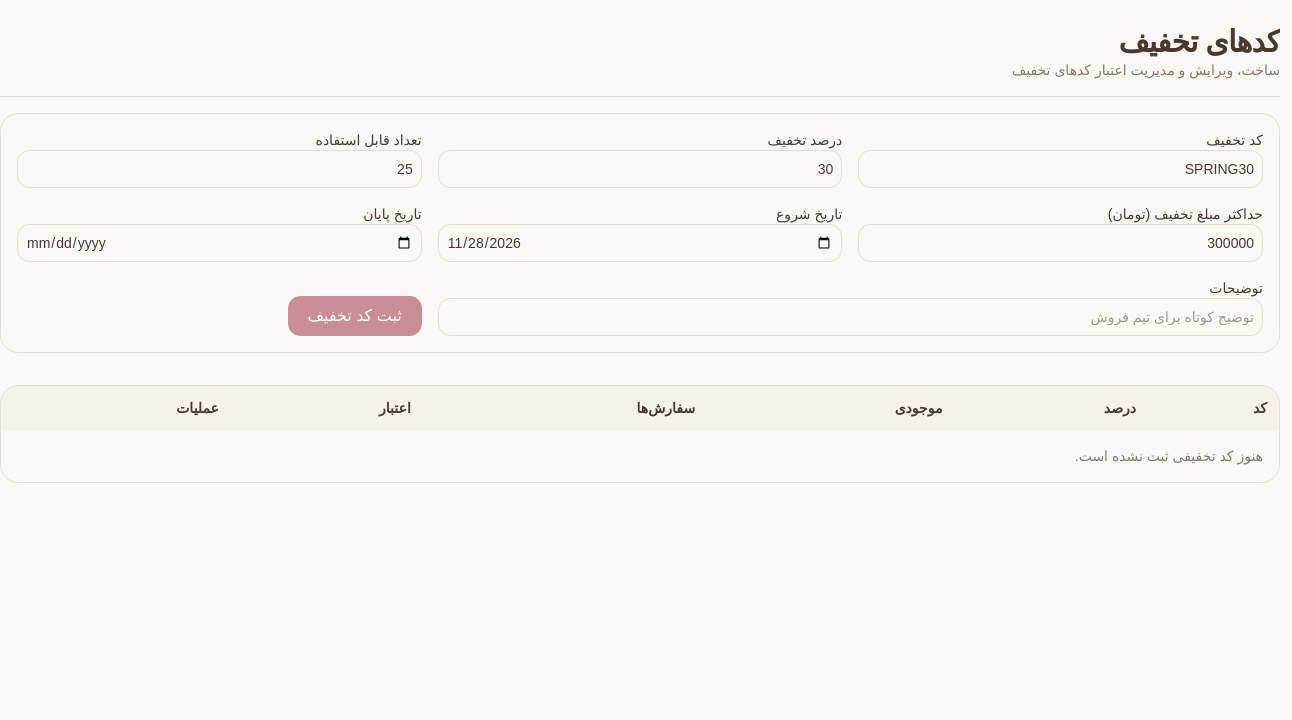
Test: admin discount codes page › creates a discount code and handles duplicate, invalid, generic, and non-Error create failures
Earlier steps of the test are not shown.
Later steps or results of the test are not shown.
Step 1. Type "2026-11-01" into the date field labelled "تاریخ شروع" → (640, 243), box [438,224,842,262]
Step 2. Type "2026-12-01" into the date field labelled "تاریخ پایان" → (219, 243), box [17,224,422,262]
Step 3. Type "بهاره" into the field with placeholder "توضیح کوتاه برای تیم فروش" → (850, 317), box [438,298,1263,336]
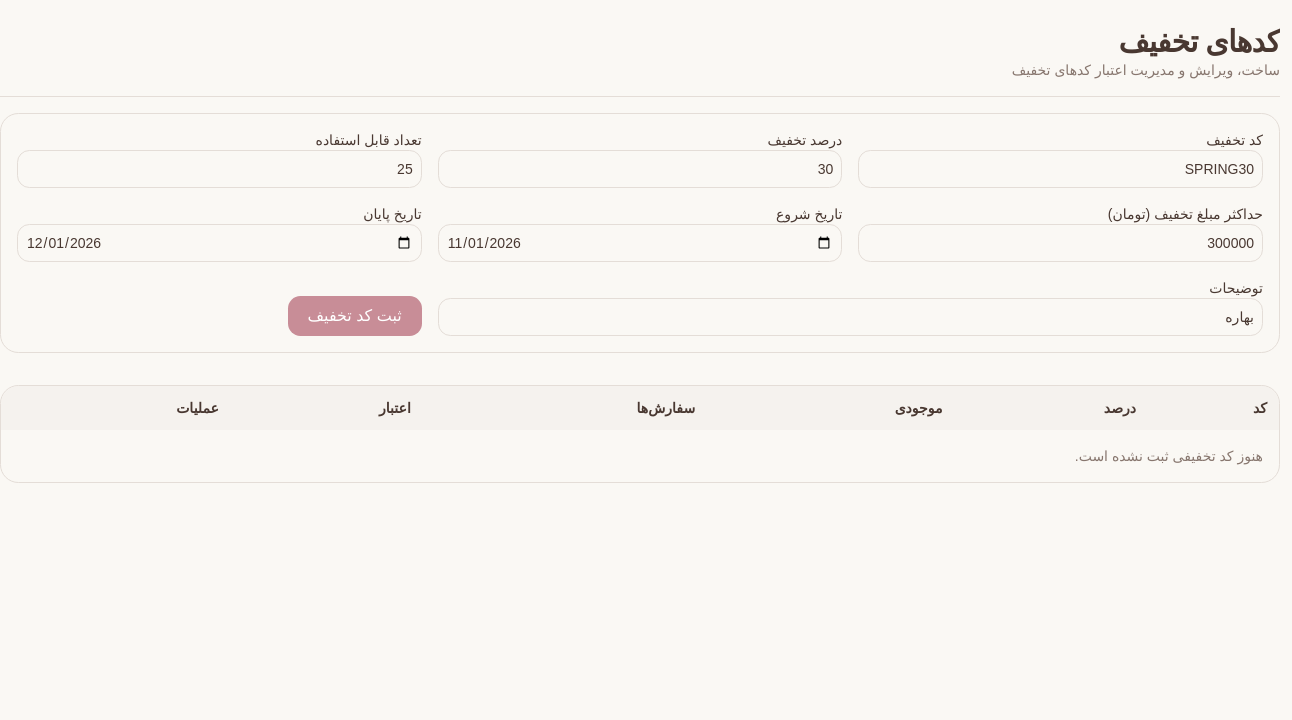
Step 4. Submit the form named "ثبت کد تخفیف", box [0,113,1280,353]
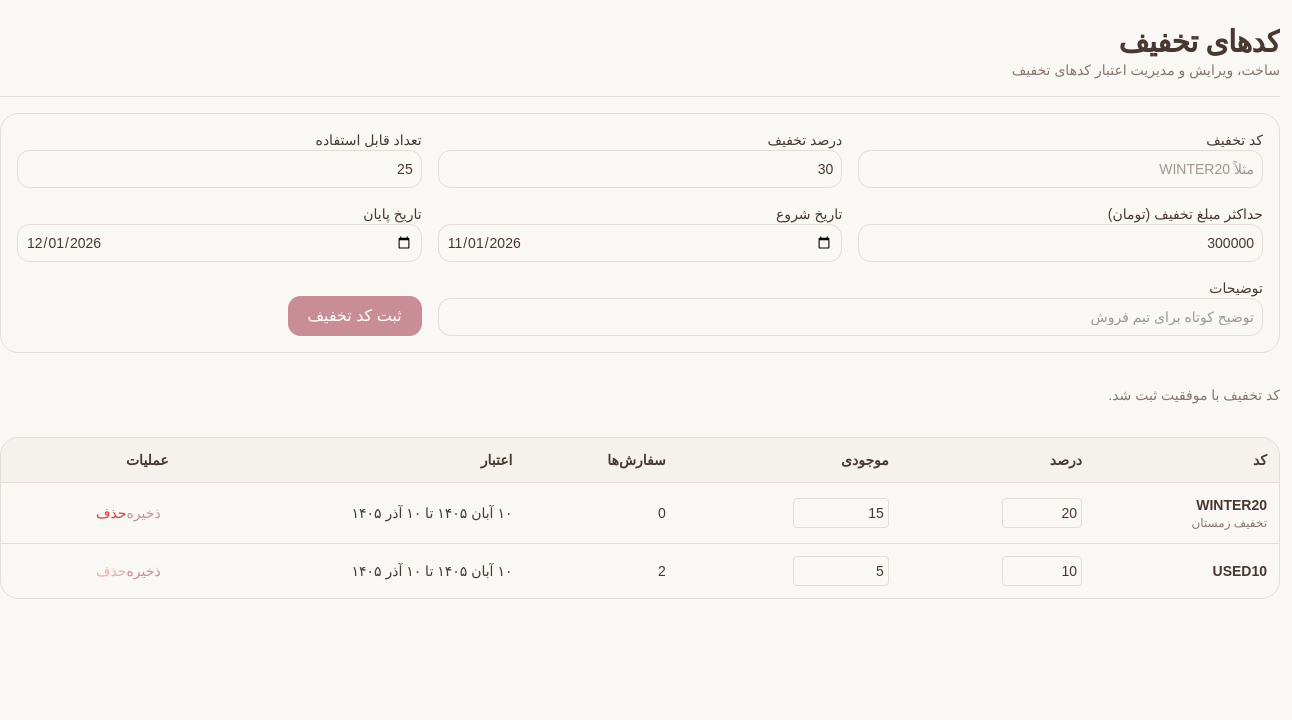
Now the text "WINTER20" is shown, box [1196,497,1267,513]
Step 5. Type "WINTER20" into the field with placeholder "مثلاً WINTER20" → (1061, 169), box [858,150,1263,188]
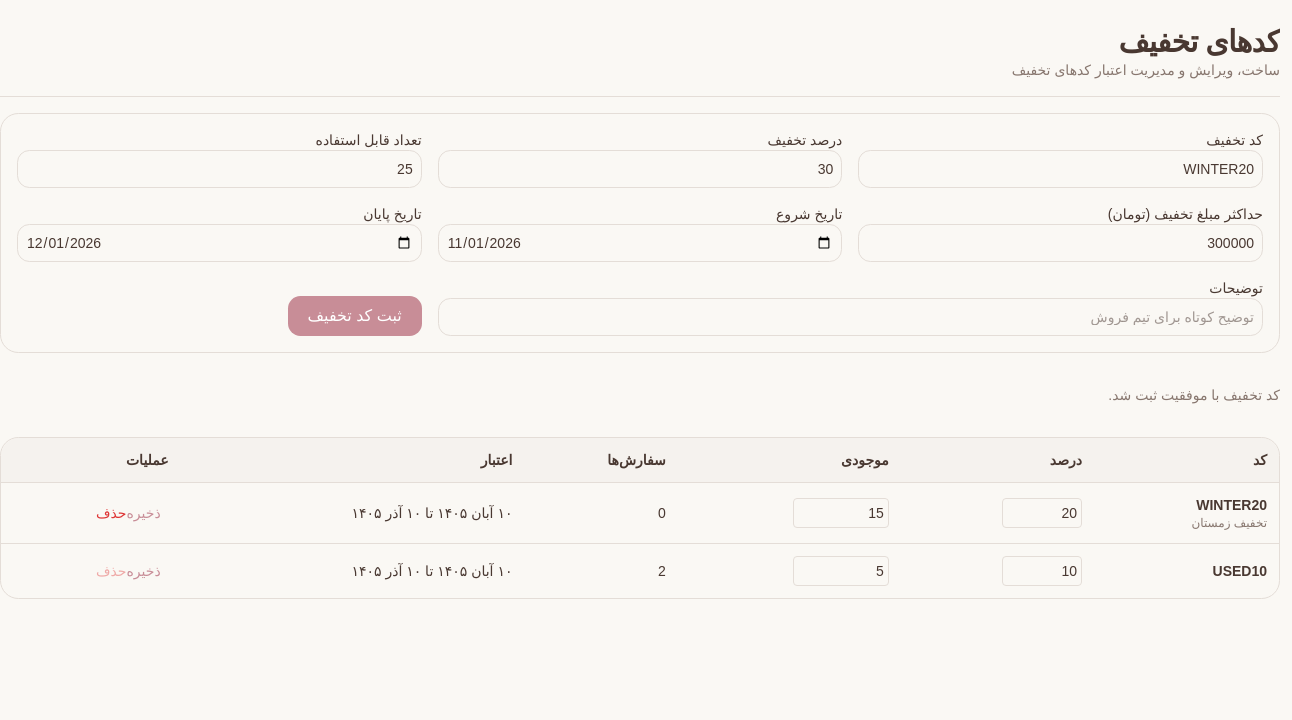
Step 6. Submit the form named "ثبت کد تخفیف", box [0,113,1280,353]
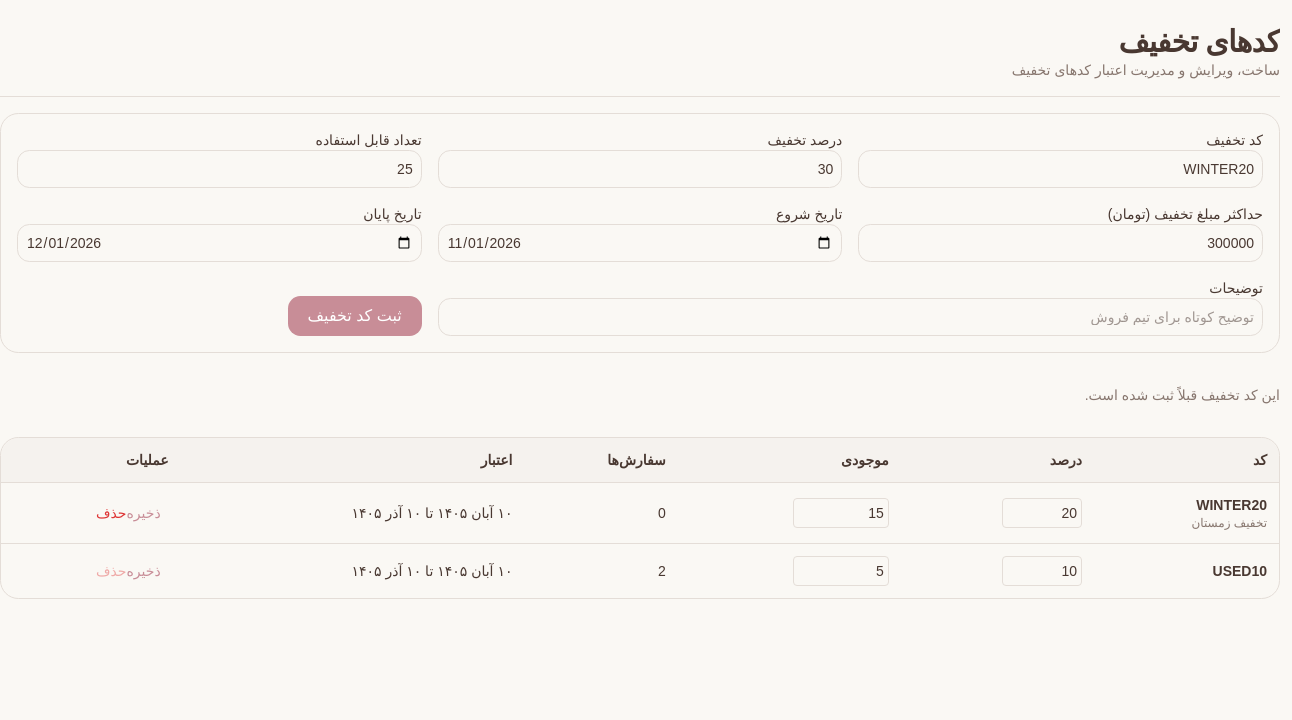
Now the message reads "این کد تخفیف قبلاً ثبت شده است.", box [1085,387,1280,403]
Step 7. Submit the form named "ثبت کد تخفیف", box [0,113,1280,353]
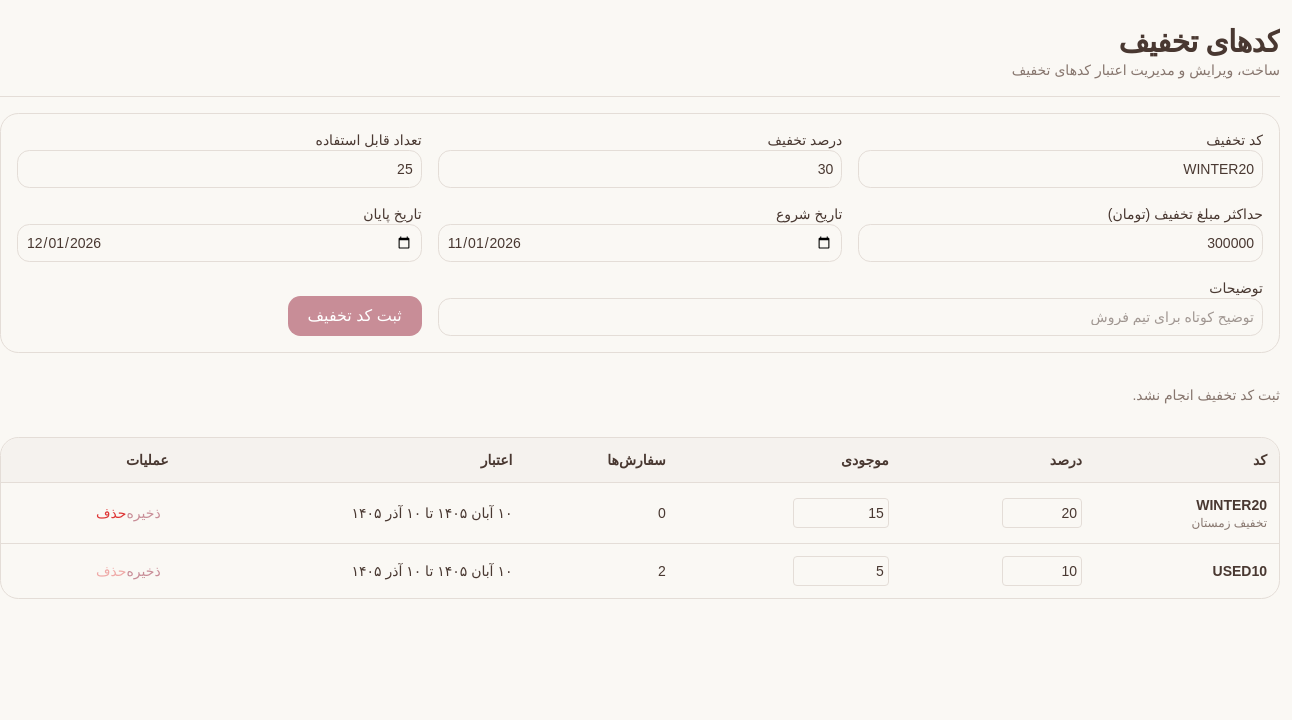
Now the message reads "ثبت کد تخفیف انجام نشد.", box [1132,387,1280,403]
Step 8. Submit the form named "ثبت کد تخفیف", box [0,113,1280,353]
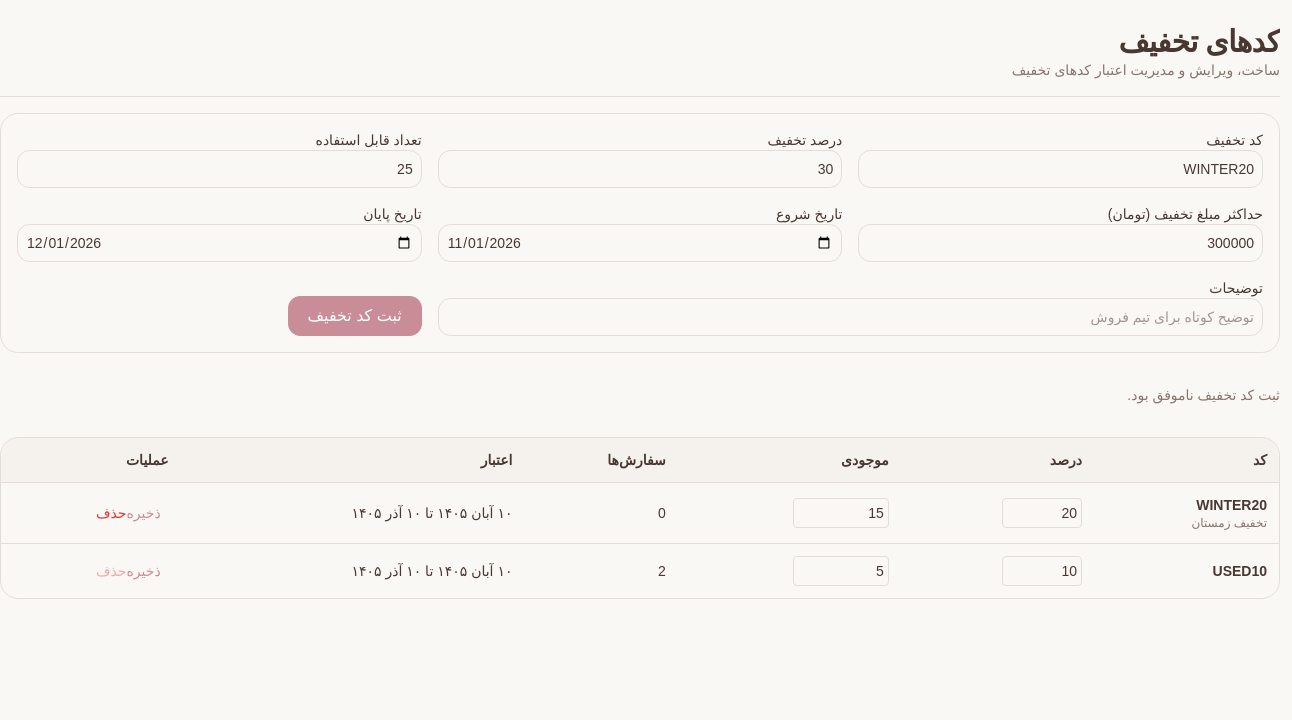
Now the message reads "ثبت کد تخفیف ناموفق بود.", box [1127,387,1280,403]
